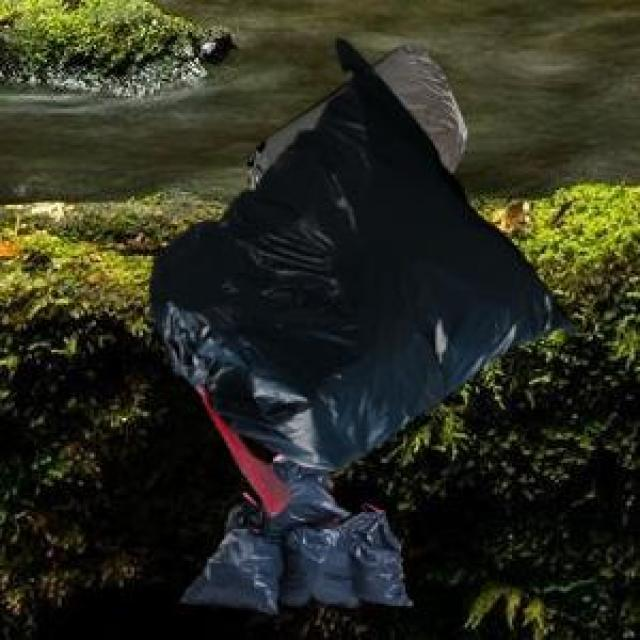Vinyl: (152, 41, 569, 613)
